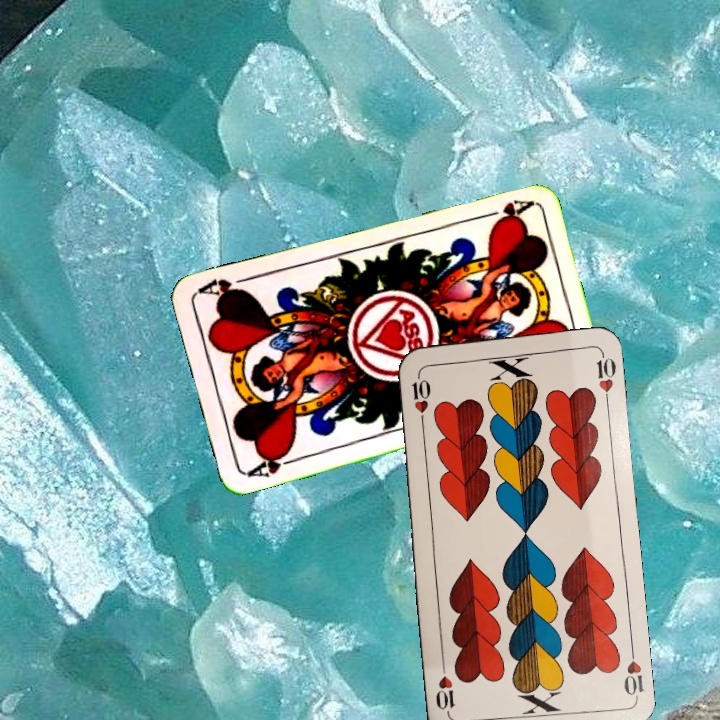H10: (620, 640, 646, 699), (407, 368, 431, 428)
HA: (244, 445, 302, 480), (475, 195, 533, 225)
